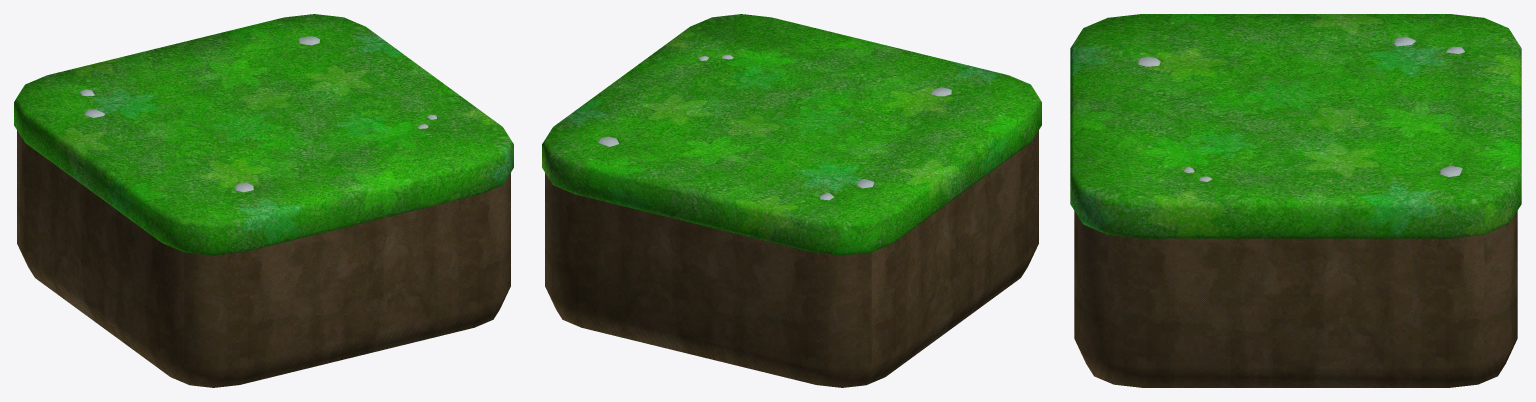
The model's file is HikeGardenGrassBlockB.fbx.
3 views of the same model, side by side, from view 1: azimuth 30°, elevation 25°; view 2: azimuth 150°, elevation 25°; view 3: azimuth 270°, elevation 25° (orthographic). The views are drawn at different scales.
Visible parts, largest first — view 1: Plane.001, Plane.002, Plane.000; view 2: Plane.001, Plane.002, Plane.000; view 3: Plane.001, Plane.002, Plane.000.
Part boxes in pixels (x1,y1,x2,y2): Plane.001: [14, 14, 513, 255]; Plane.002: [17, 130, 510, 387]; Plane.000: [79, 36, 436, 192]; Plane.001: [542, 14, 1041, 255]; Plane.002: [545, 130, 1038, 387]; Plane.000: [598, 54, 951, 200]; Plane.001: [1070, 14, 1521, 238]; Plane.002: [1074, 211, 1517, 387]; Plane.000: [1138, 36, 1464, 181].
Size of the model in its own units: 100000 by 49636 by 100000.
3 materials, 3 textured.
